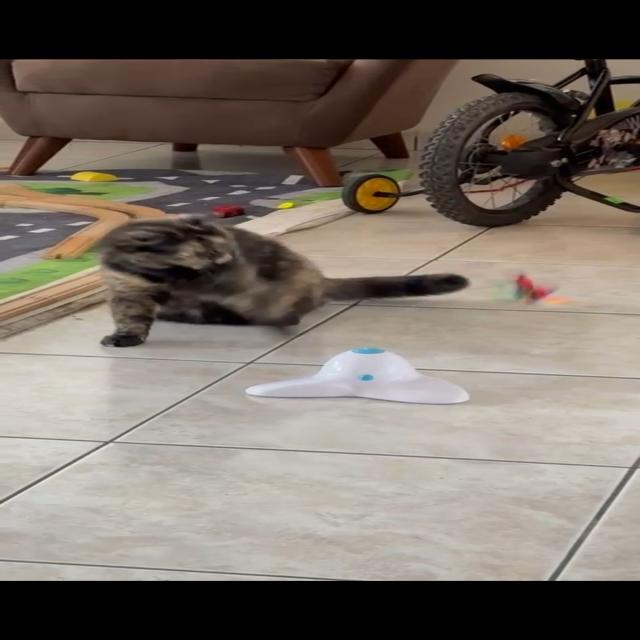authorized: (90, 213, 470, 348)
